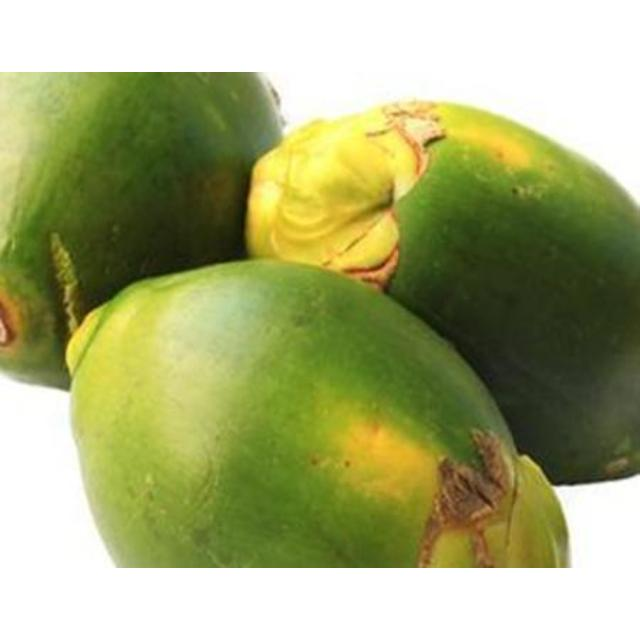good: (67, 260, 570, 567), (247, 100, 639, 486), (0, 72, 286, 393)
